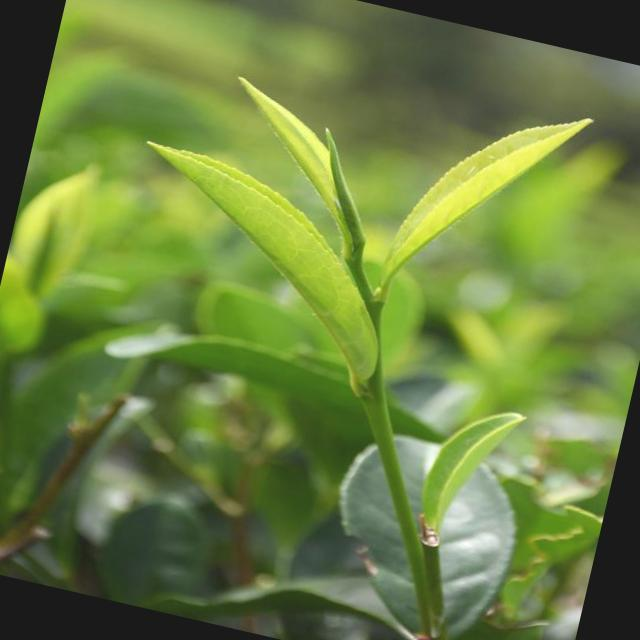Stem: (364, 396, 386, 409)
